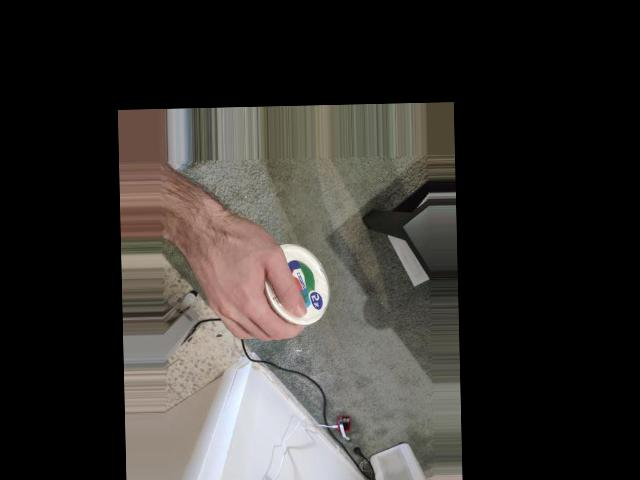cotage: (256, 243, 331, 327)
